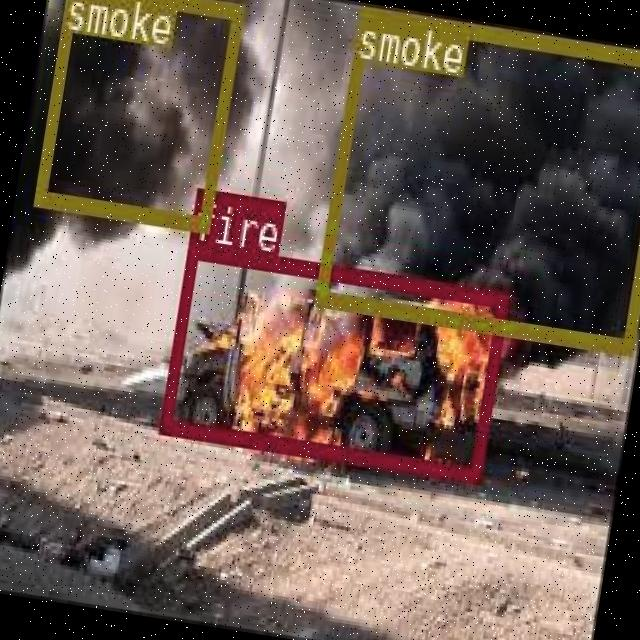fire: (159, 242, 508, 481)
smoke: (312, 2, 640, 352), (33, 0, 243, 228)
